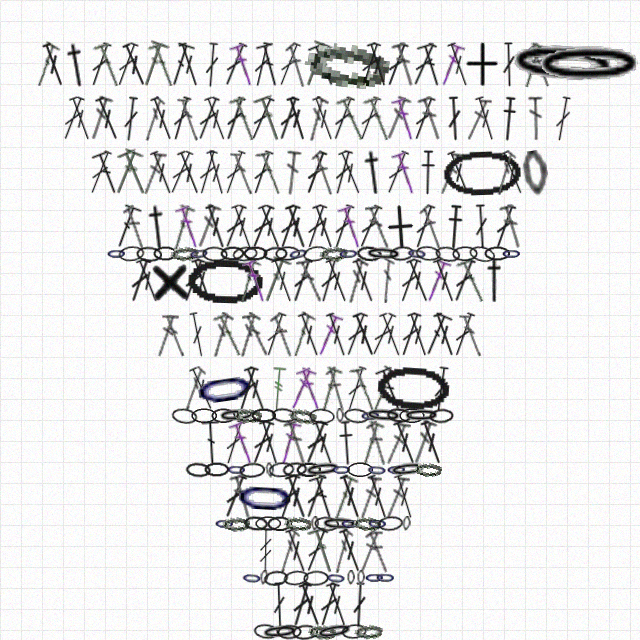chain: (505, 38, 621, 91), (533, 42, 640, 88), (303, 38, 391, 91), (375, 364, 452, 413), (442, 149, 521, 196), (186, 257, 263, 304), (191, 362, 259, 415), (233, 473, 298, 521), (520, 149, 551, 197), (315, 621, 354, 640), (304, 460, 342, 479), (389, 460, 427, 479), (261, 623, 299, 640), (218, 407, 255, 424), (365, 407, 402, 424), (321, 516, 358, 532), (365, 246, 402, 262), (468, 244, 496, 264), (403, 408, 440, 423), (302, 244, 330, 263), (288, 407, 317, 425), (354, 623, 383, 640), (170, 245, 199, 262), (319, 245, 348, 262), (171, 407, 198, 425), (343, 407, 370, 425), (434, 245, 461, 263), (263, 569, 289, 587), (283, 569, 309, 587), (232, 245, 258, 263), (377, 515, 404, 532), (268, 461, 295, 478), (118, 245, 145, 262), (308, 624, 336, 640), (222, 516, 250, 532), (253, 623, 279, 640), (341, 623, 367, 640), (243, 515, 269, 532), (282, 461, 308, 478), (271, 407, 297, 424), (386, 407, 412, 424), (356, 245, 382, 262), (389, 245, 415, 262), (415, 245, 441, 262), (287, 244, 310, 263), (284, 516, 312, 531), (353, 516, 381, 531), (414, 462, 442, 477), (234, 408, 262, 423), (292, 624, 318, 640), (303, 570, 329, 586), (185, 462, 211, 478), (239, 462, 265, 478), (309, 408, 335, 424), (136, 246, 162, 262), (202, 246, 228, 262), (277, 624, 302, 640), (314, 516, 339, 532), (429, 408, 454, 424), (263, 246, 288, 262), (255, 516, 281, 531), (347, 462, 373, 477), (191, 408, 217, 423), (399, 408, 425, 423), (452, 246, 478, 261), (484, 246, 510, 261), (267, 516, 292, 531), (204, 462, 229, 477), (296, 462, 321, 477), (211, 408, 236, 423), (251, 408, 276, 423), (153, 246, 178, 261), (220, 246, 245, 261), (243, 246, 268, 261), (275, 246, 300, 261), (188, 245, 210, 262), (406, 245, 428, 262), (241, 570, 263, 586), (325, 570, 347, 586), (366, 462, 388, 478), (364, 570, 385, 585), (375, 570, 396, 585), (214, 516, 235, 531), (340, 516, 361, 531), (367, 516, 388, 531), (226, 462, 247, 477), (331, 462, 352, 477), (386, 462, 407, 477), (360, 408, 381, 423), (106, 246, 127, 261), (338, 246, 359, 261), (501, 246, 522, 261), (265, 462, 275, 478), (259, 570, 269, 585), (402, 516, 411, 531), (347, 570, 355, 585), (357, 570, 365, 585), (311, 516, 319, 531), (336, 408, 344, 423)
double: (117, 148, 153, 197), (109, 148, 144, 197), (419, 311, 454, 359), (258, 256, 292, 305), (253, 94, 287, 143), (299, 40, 333, 89), (374, 365, 408, 413), (307, 41, 341, 89), (307, 526, 340, 575), (137, 40, 170, 89), (212, 311, 245, 359), (455, 257, 488, 305), (110, 203, 143, 251), (91, 149, 124, 197), (327, 473, 359, 521), (335, 95, 367, 143), (186, 365, 218, 412), (367, 365, 399, 412), (367, 311, 399, 358), (408, 41, 440, 88), (308, 473, 339, 521), (362, 95, 393, 143), (92, 41, 123, 89), (165, 41, 196, 89), (416, 41, 447, 89), (286, 365, 317, 412), (313, 311, 344, 358), (354, 203, 385, 250), (165, 149, 196, 196), (335, 149, 366, 196), (497, 149, 528, 196), (92, 95, 123, 142), (246, 95, 277, 142), (119, 41, 150, 88), (355, 419, 385, 467), (166, 203, 196, 251), (228, 95, 258, 143), (147, 41, 177, 89), (255, 41, 285, 89), (517, 41, 547, 89), (295, 581, 325, 628), (301, 527, 331, 574), (220, 473, 250, 520), (247, 419, 277, 466), (301, 419, 331, 466), (390, 419, 420, 466), (295, 365, 325, 412), (349, 365, 379, 412), (287, 311, 317, 358), (341, 311, 371, 358), (349, 311, 379, 358), (376, 311, 406, 358), (133, 257, 163, 304), (322, 257, 352, 304), (349, 257, 379, 304), (403, 257, 433, 304), (422, 257, 452, 304), (449, 257, 479, 304), (220, 203, 250, 250), (247, 203, 277, 250), (255, 203, 285, 250), (85, 149, 115, 196), (147, 149, 177, 196), (174, 149, 204, 196), (255, 149, 285, 196), (382, 149, 412, 196), (444, 149, 474, 196), (58, 95, 88, 142), (147, 95, 177, 142), (193, 95, 223, 142), (201, 95, 231, 142), (328, 95, 358, 142), (382, 95, 412, 142), (31, 41, 61, 88), (220, 41, 250, 88), (274, 41, 304, 88), (436, 41, 466, 88), (314, 365, 343, 413), (282, 527, 311, 574), (336, 527, 365, 574), (282, 473, 311, 520), (301, 473, 330, 520), (336, 473, 365, 520), (228, 419, 257, 466), (309, 419, 338, 466), (409, 419, 438, 466), (417, 419, 446, 466), (241, 365, 270, 412), (295, 311, 324, 358), (430, 311, 459, 358), (449, 311, 478, 358), (179, 257, 208, 304), (241, 257, 270, 304), (268, 257, 297, 304), (395, 257, 424, 304), (430, 257, 459, 304), (174, 203, 203, 250), (193, 203, 222, 250), (228, 203, 257, 250), (282, 203, 311, 250), (309, 203, 338, 250), (490, 203, 519, 250), (220, 149, 249, 196), (301, 149, 330, 196), (66, 95, 95, 142), (274, 95, 303, 142), (309, 95, 338, 142), (355, 95, 384, 142), (409, 95, 438, 142), (417, 95, 446, 142), (39, 41, 68, 88), (112, 41, 141, 88), (382, 41, 411, 88), (444, 41, 473, 88), (323, 581, 351, 628), (275, 473, 303, 520), (364, 473, 392, 520), (283, 419, 311, 466), (342, 365, 370, 412), (261, 311, 289, 358), (323, 311, 351, 358), (396, 311, 424, 358), (404, 311, 432, 358), (126, 257, 154, 304), (188, 257, 216, 304), (234, 257, 262, 304), (288, 257, 316, 304), (202, 203, 230, 250), (275, 203, 303, 250), (302, 203, 330, 250), (329, 203, 357, 250), (337, 203, 365, 250), (410, 203, 438, 250), (248, 149, 276, 196), (391, 149, 419, 196), (86, 95, 114, 142), (221, 95, 249, 142), (86, 41, 114, 88), (175, 41, 203, 88), (229, 41, 257, 88), (356, 41, 384, 88), (391, 41, 419, 88), (364, 528, 392, 574), (383, 420, 411, 466), (242, 312, 270, 358), (296, 258, 324, 304), (464, 96, 492, 142), (526, 42, 554, 88), (288, 581, 315, 628), (315, 581, 342, 628), (229, 473, 256, 520), (391, 473, 418, 520), (221, 419, 248, 466), (256, 419, 283, 466), (234, 365, 261, 412), (499, 203, 526, 250), (194, 149, 221, 196), (283, 95, 310, 142), (391, 95, 418, 142), (472, 95, 499, 142), (364, 41, 391, 88), (383, 474, 410, 520), (207, 312, 234, 358), (234, 312, 261, 358), (269, 312, 296, 358), (342, 258, 369, 304), (418, 204, 445, 250), (140, 150, 167, 196), (310, 150, 337, 196), (437, 150, 464, 196), (276, 419, 302, 466), (316, 257, 342, 304), (203, 149, 229, 196), (330, 149, 356, 196), (168, 95, 194, 142), (357, 528, 383, 574), (122, 204, 148, 250), (365, 204, 391, 250), (303, 96, 329, 142), (181, 366, 207, 411), (276, 528, 301, 574), (357, 474, 382, 520), (365, 420, 390, 466), (324, 366, 349, 412), (154, 312, 179, 358), (162, 312, 187, 358), (459, 312, 484, 358), (230, 150, 255, 196), (141, 96, 166, 142), (284, 42, 309, 88), (250, 41, 274, 88), (493, 150, 517, 196), (177, 96, 201, 142), (186, 311, 209, 358), (331, 528, 354, 574), (552, 96, 574, 142), (201, 420, 222, 465), (431, 366, 451, 412), (121, 96, 141, 142), (283, 150, 302, 196), (203, 42, 221, 88), (351, 582, 368, 627), (473, 204, 490, 249), (446, 96, 463, 141), (271, 582, 287, 627), (379, 258, 395, 303), (528, 96, 544, 141), (501, 42, 517, 87)
half_double: (61, 41, 92, 89), (359, 149, 388, 196), (143, 204, 172, 250), (481, 258, 508, 303), (444, 204, 465, 250), (499, 96, 519, 142), (337, 420, 356, 466), (419, 150, 437, 195)
single: (377, 203, 424, 250), (149, 258, 192, 304), (464, 42, 499, 87)
treble: (269, 366, 288, 412), (258, 528, 273, 573)
